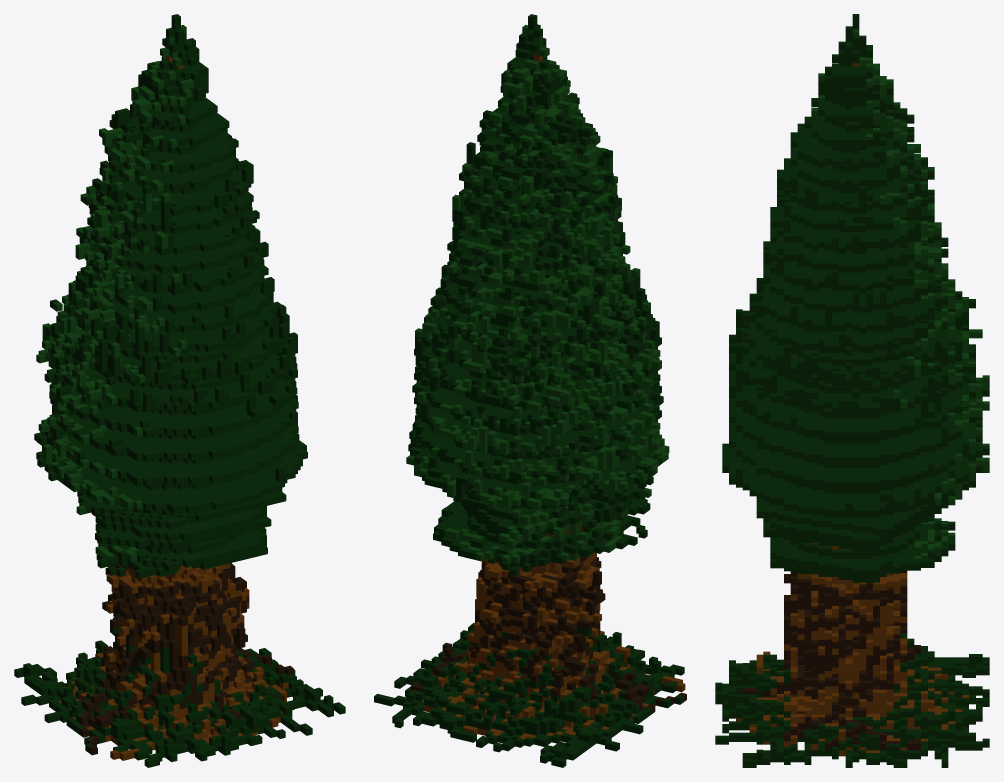
The model's file is Fir.obj.
3 renders of one model, left to right at view 1: azimuth 30°, elevation 25°; view 2: azimuth 150°, elevation 25°; view 3: azimuth 270°, elevation 25°, orthographic. The views are drawn at different scales.
Bounding box in the file's own units: 4 × 11.2 × 4.
1 material, 1 textured.
